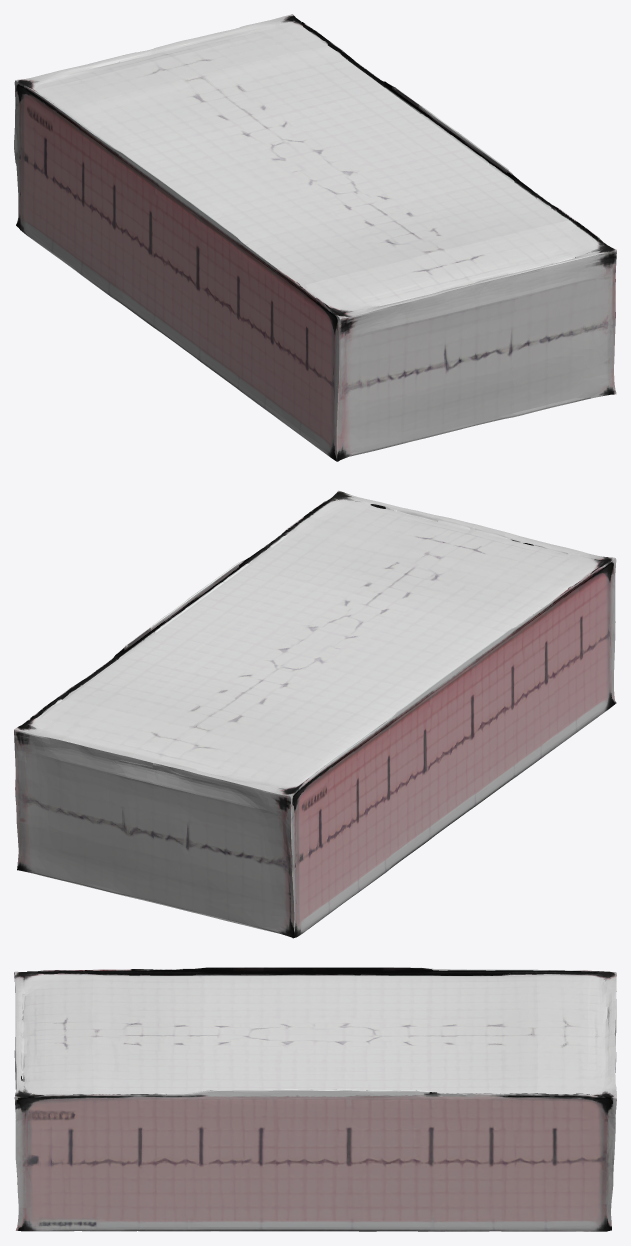
The model's file is ELECTRO.glb.
The picture shows the model from 3 angles, top to bottom: view 1: azimuth 30°, elevation 25°; view 2: azimuth 150°, elevation 25°; view 3: azimuth 270°, elevation 25°; orthographic projection. The views are drawn at different scales.
Parts seen in each view (by area): view 1: world; view 2: world; view 3: world.
Boxes of the visible parts, <box> form: world: <box>14,14,616,461</box>; world: <box>14,490,616,938</box>; world: <box>14,967,616,1231</box>.
Size of the model in its own units: 0.4961 by 0.2602 by 1.
Materials: 1 (1 with a texture image).
